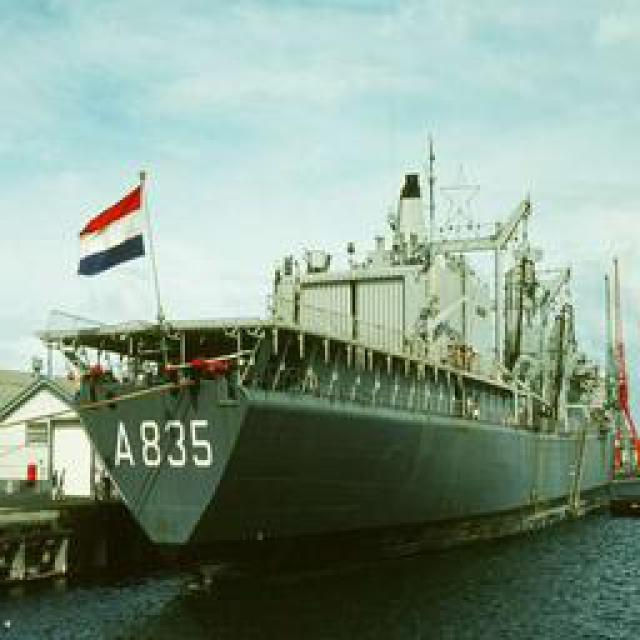Ship: (42, 115, 622, 565)
